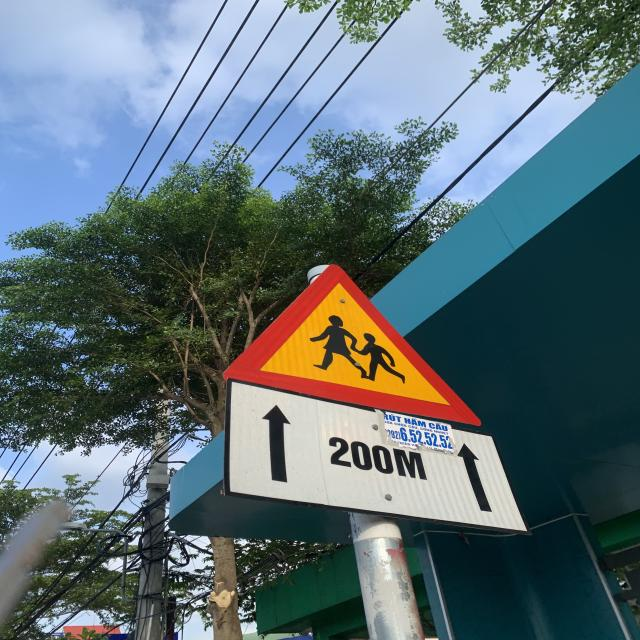Vong_Xuyen: (220, 257, 484, 427)
